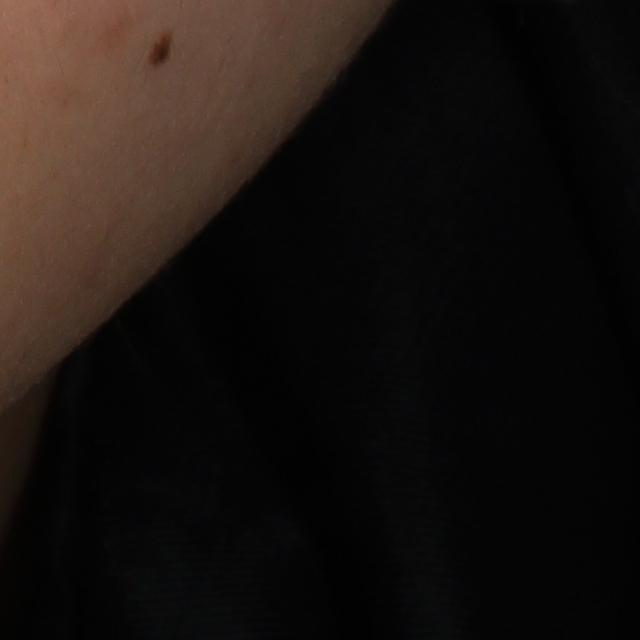nevus: (149, 32, 174, 63)
